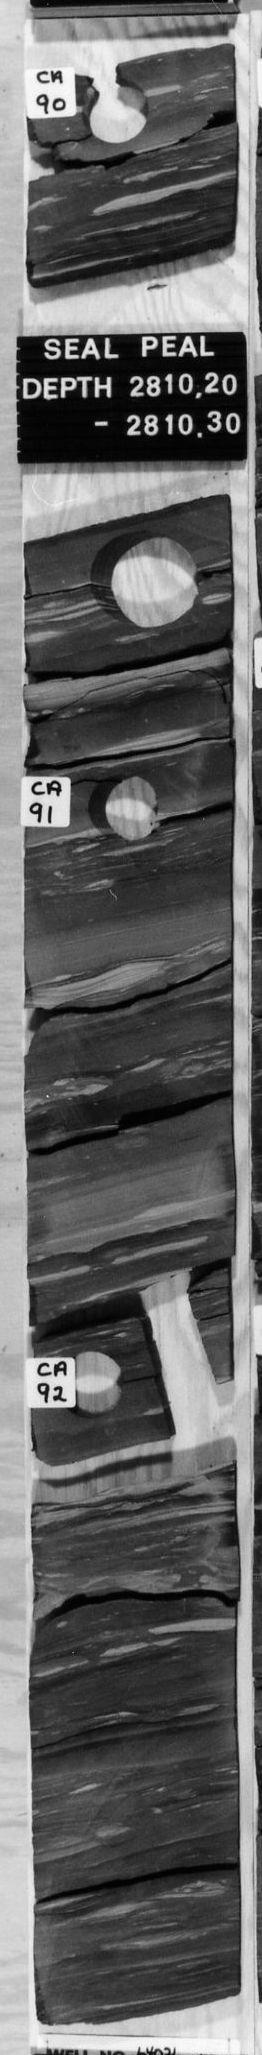hplug: (29, 1429, 233, 1508), (85, 761, 166, 847), (54, 1343, 134, 1422), (75, 71, 153, 145)
scal: (84, 527, 207, 634)
vplug: (136, 1269, 223, 1439)
